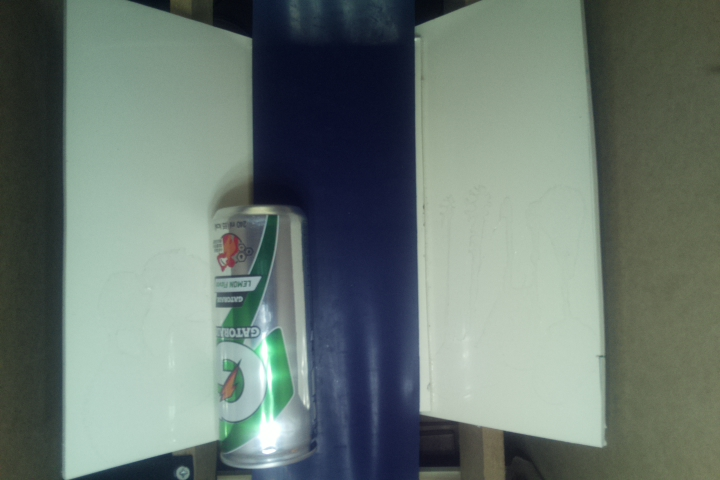can: (209, 202, 321, 467)
